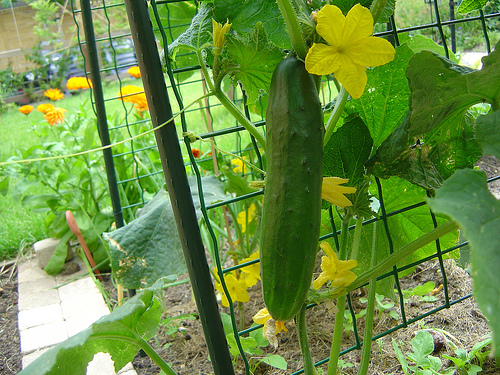cucumber: (263, 56, 322, 322)
